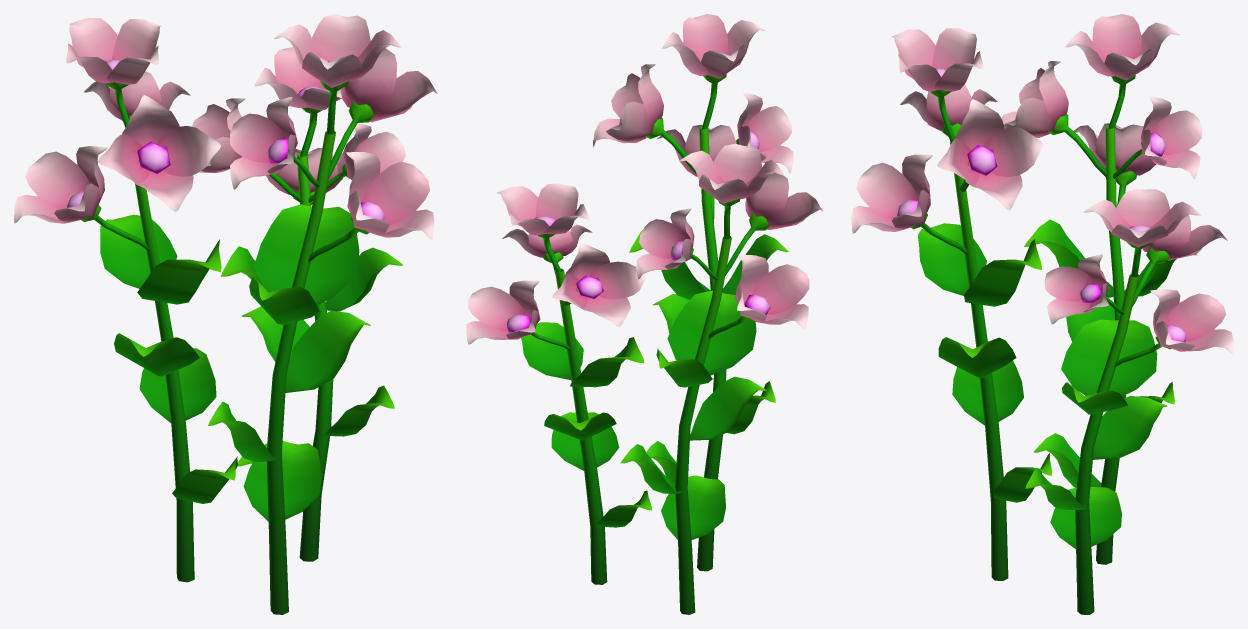
The model's file is flowers_pink.fbx.
3 renders of one model, left to right at view 1: azimuth 30°, elevation 25°; view 2: azimuth 150°, elevation 25°; view 3: azimuth 270°, elevation 25°, orthographic. The views are drawn at different scales.
Parts seen in each view (by area): view 1: 04_BalloonFlower; view 2: 04_BalloonFlower; view 3: 04_BalloonFlower.
Part boxes in pixels (x1=…): 04_BalloonFlower: x1=14, y1=14, x2=437, y2=614; 04_BalloonFlower: x1=466, y1=14, x2=822, y2=614; 04_BalloonFlower: x1=851, y1=14, x2=1233, y2=614.
Size of the model in its own units: 76.48 by 117 by 74.66.
